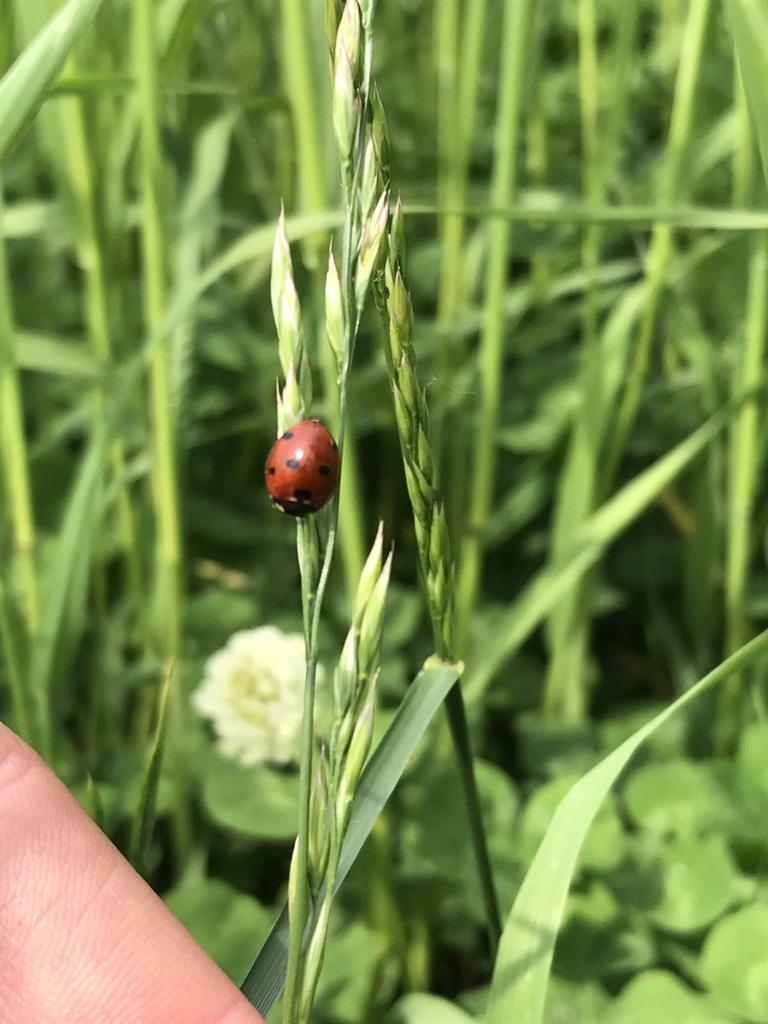ladybug: (261, 416, 349, 524)
